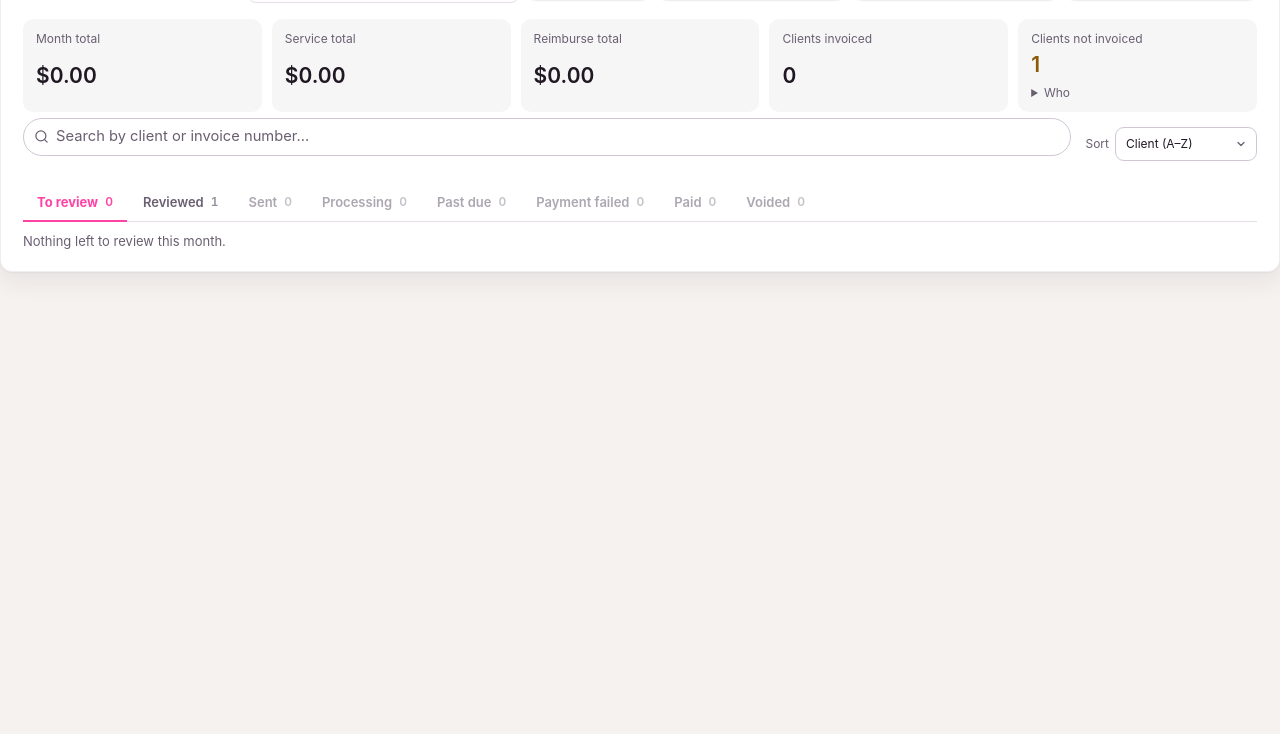
Scenario: the Send reminder button › is disabled on a reviewed invoice: "Not sent yet"
Click the tab "Reviewed 1".
click(181, 203)  # box [129, 184, 232, 222]
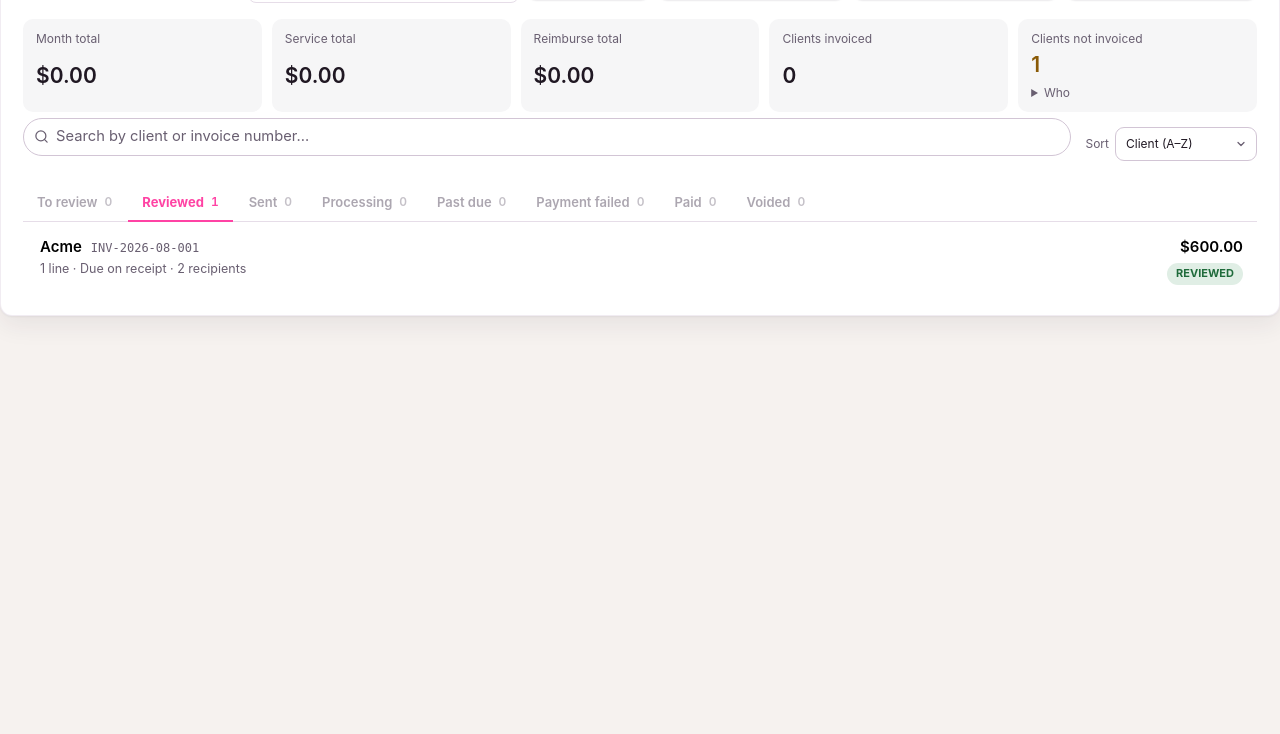
Click the text "INV-2026-08-001".
click(145, 249)  # box [91, 240, 199, 258]
(page scrolled)
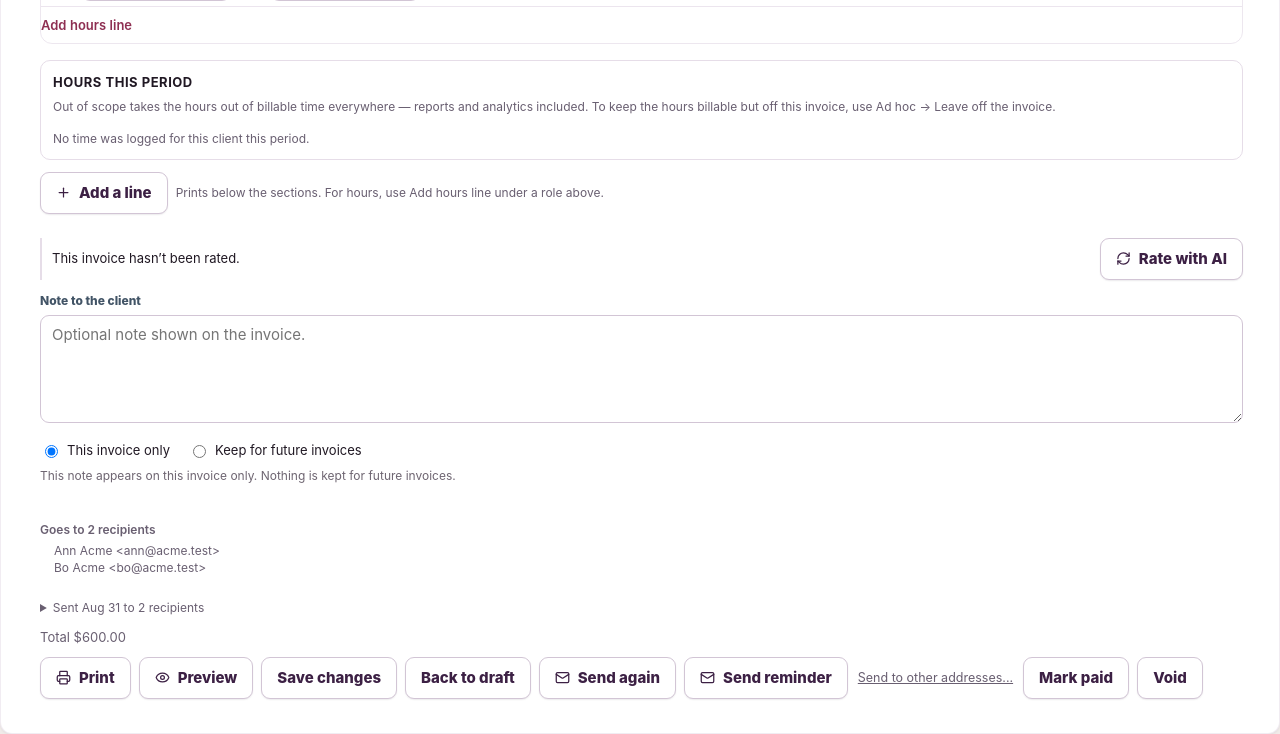
Expected: the button "Send reminder" is disabled, [684, 657, 848, 699]
